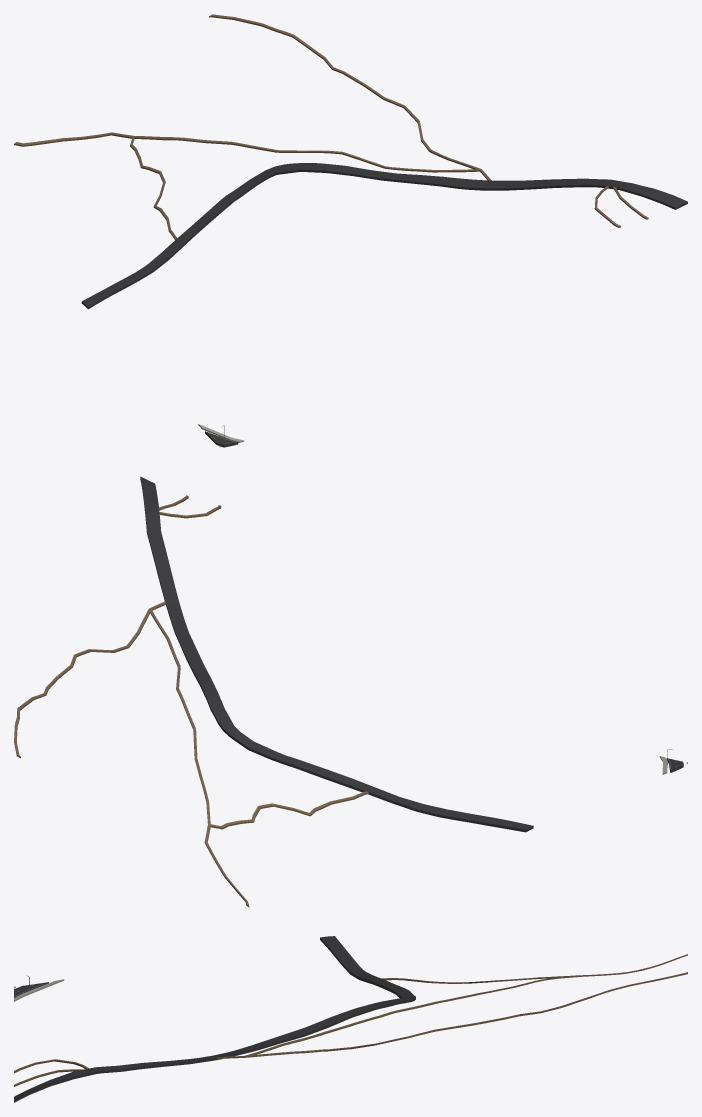
The picture shows the model from 3 angles, top to bottom: view 1: azimuth 30°, elevation 25°; view 2: azimuth 150°, elevation 25°; view 3: azimuth 270°, elevation 25°; orthographic projection. The views are drawn at different scales.
Size of the model in its own units: 272 by 86.02 by 292.
